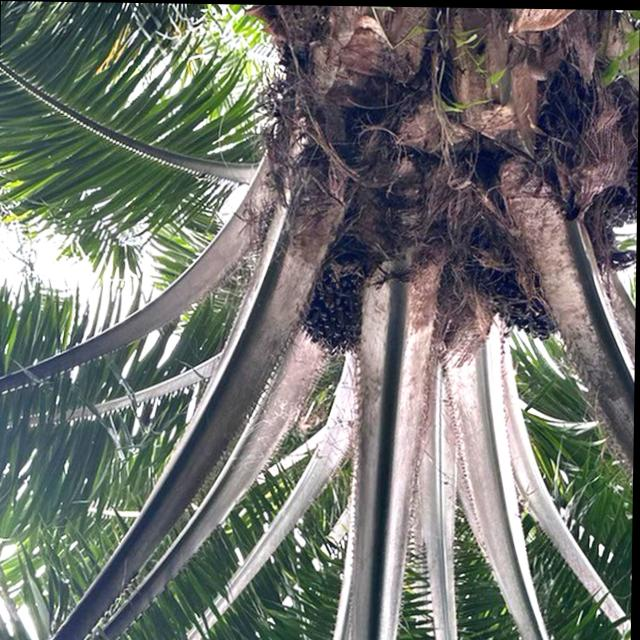unripe: (459, 229, 582, 349), (294, 243, 375, 362)
